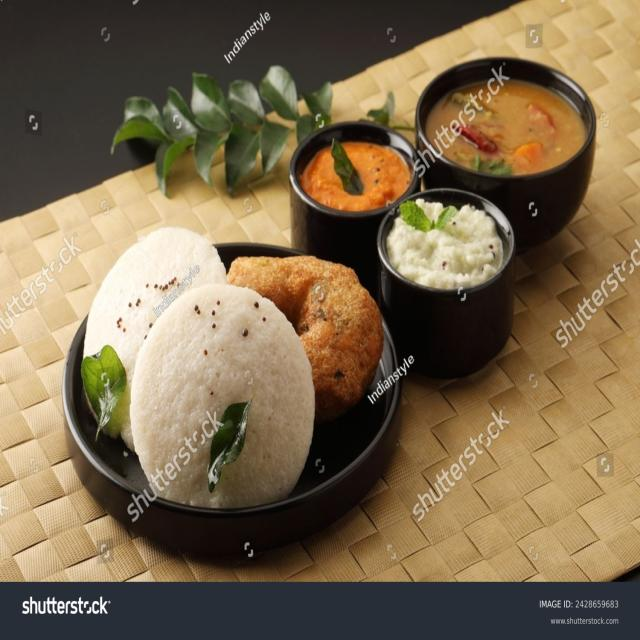IDLI: (131, 278, 314, 505), (82, 229, 223, 434)
MEDU VADA: (232, 255, 384, 420)
